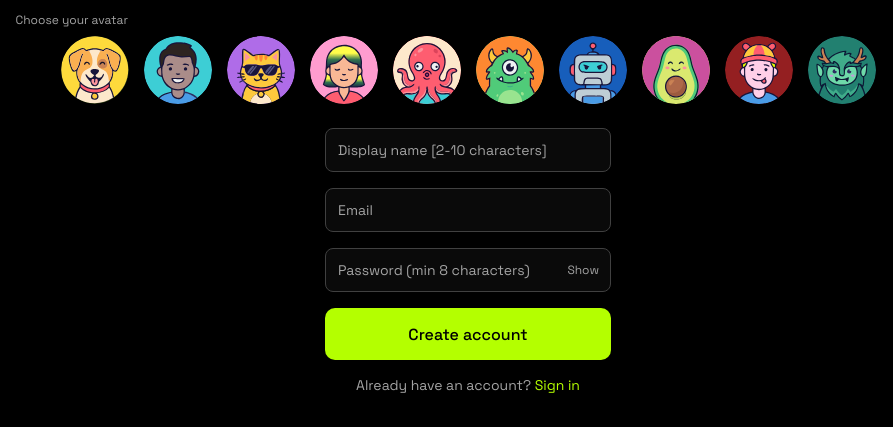
SignupForm › shows a live validation error on blur, from the shared validation module
The image size is (893, 427).
Step 1. Type "M" into the field labelled "Display name" → (468, 150), box [325,128,611,172]
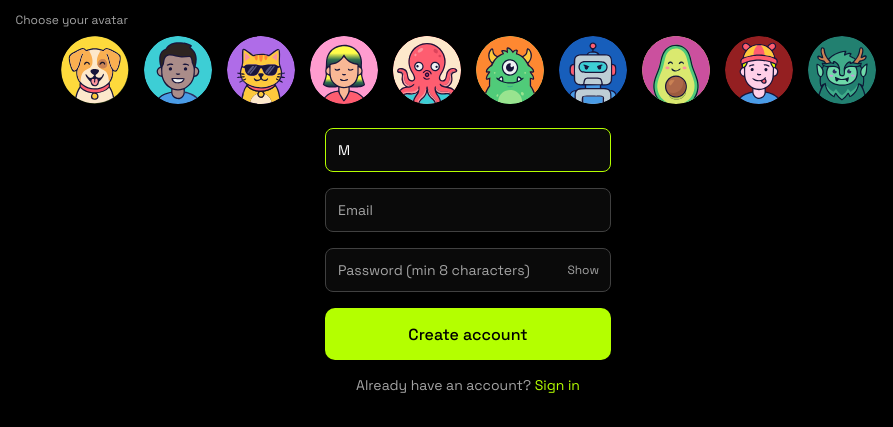
Step 2. Press Tab
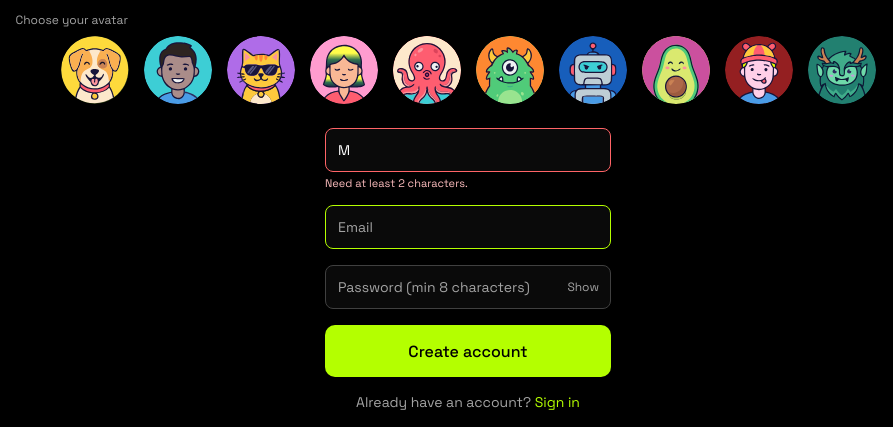
Now the text "Need at least 2 characters." is shown, box [325,176,468,190]
